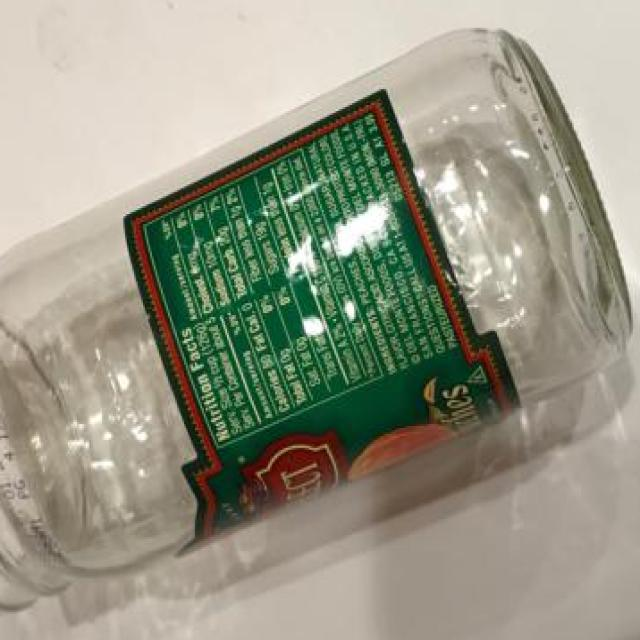organic: (7, 24, 636, 611)
